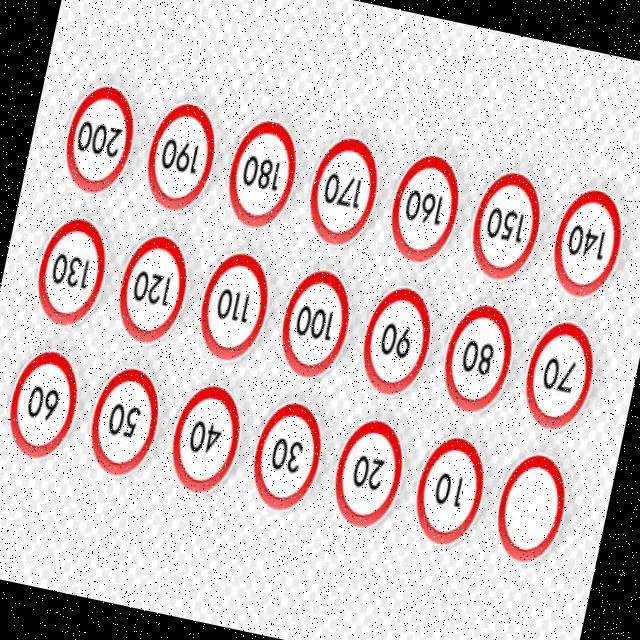speed_limit_100: (266, 259, 368, 391)
speed_limit_120: (105, 224, 202, 357)
speed_limit_30: (237, 388, 336, 534)
speed_limit_50: (80, 355, 173, 492)
speed_limit_60: (0, 337, 89, 470)
speed_limit_70: (512, 311, 610, 445)
speed_limit_80: (430, 292, 526, 424)
